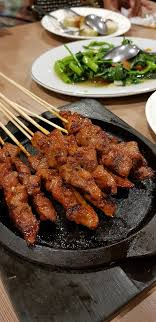sate: (1, 73, 155, 255)
